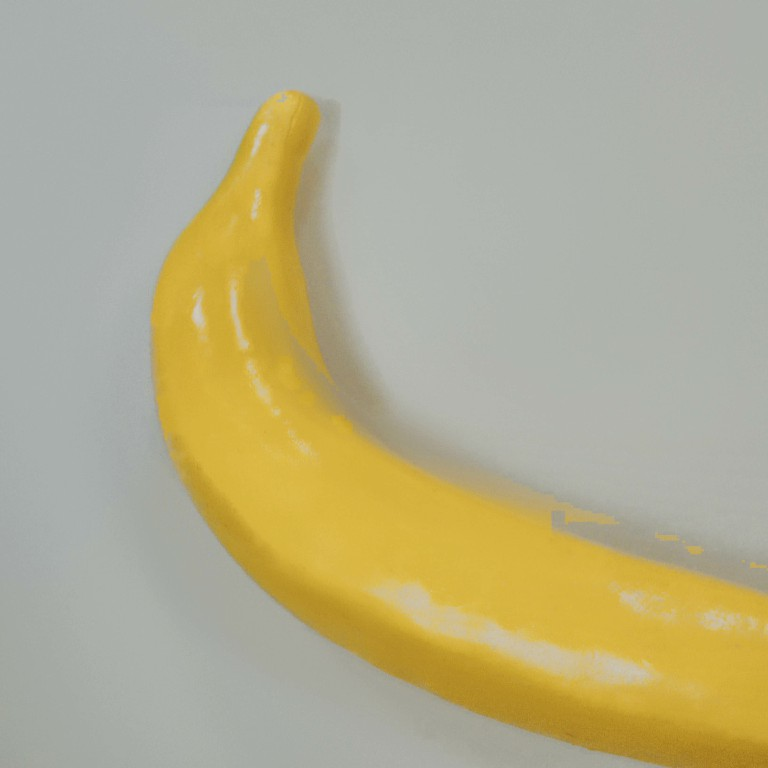fruit_banana: (144, 83, 768, 768)
